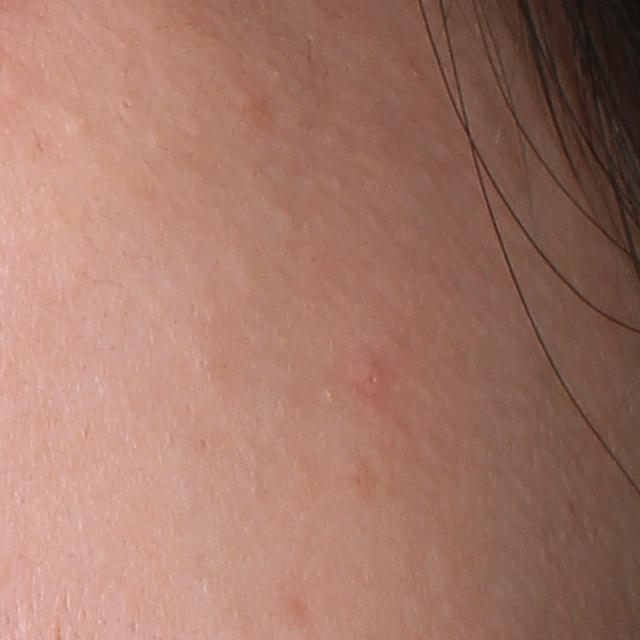comedo: (60, 110, 97, 136)
papule: (357, 361, 391, 402)
